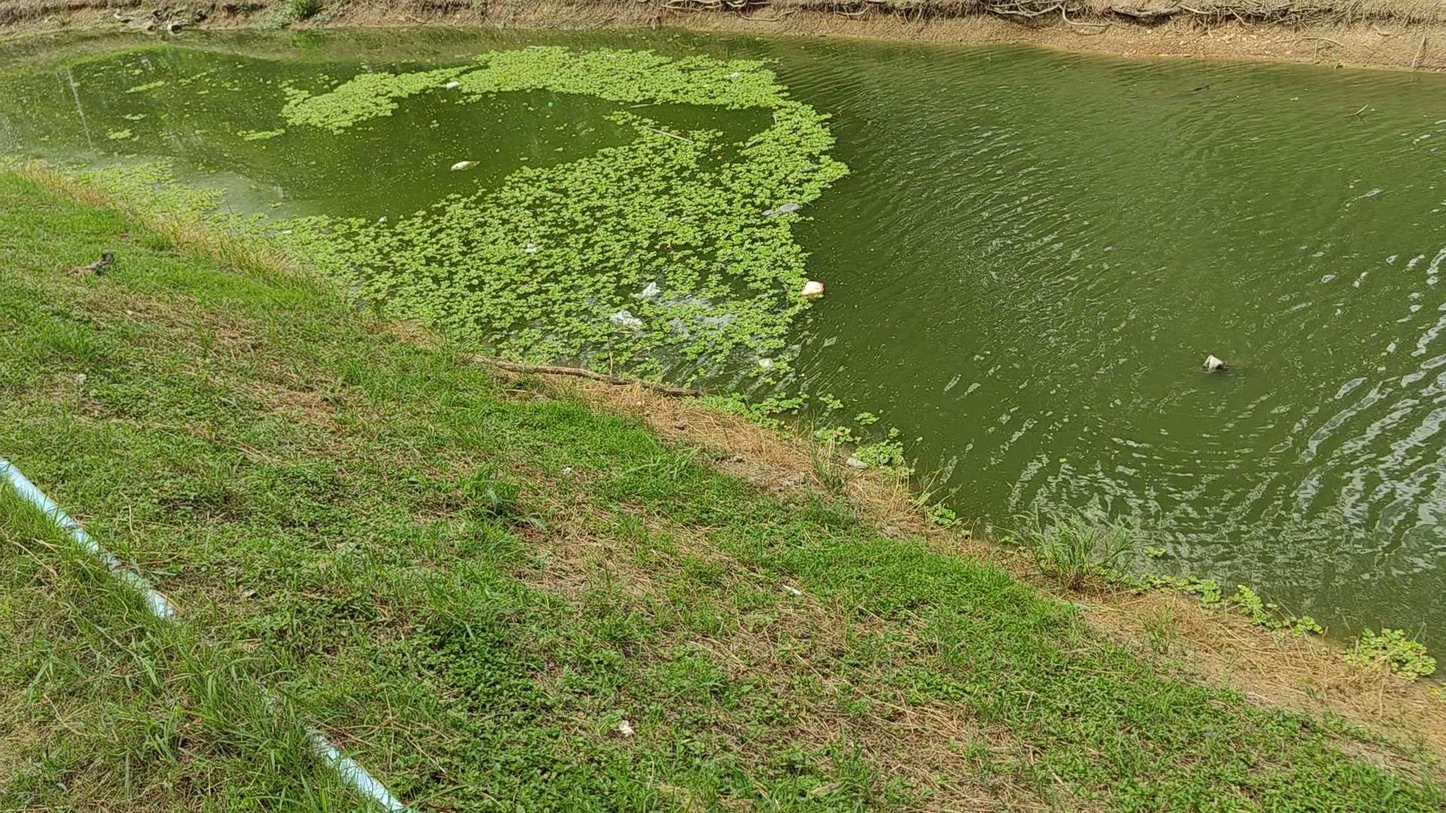trash: (609, 309, 642, 330), (800, 280, 824, 297), (1203, 355, 1225, 371), (765, 203, 799, 213), (639, 282, 660, 297), (450, 160, 477, 170), (758, 358, 772, 369), (524, 241, 535, 253), (444, 81, 459, 88), (378, 215, 386, 223), (731, 72, 740, 78)
